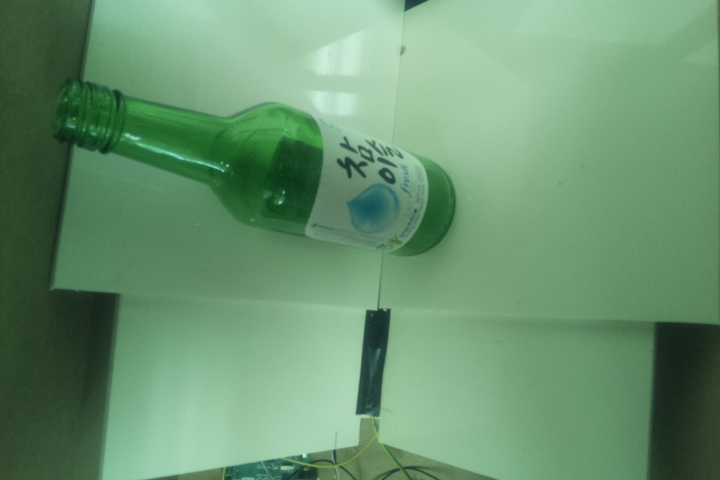soju: (48, 73, 457, 259)
